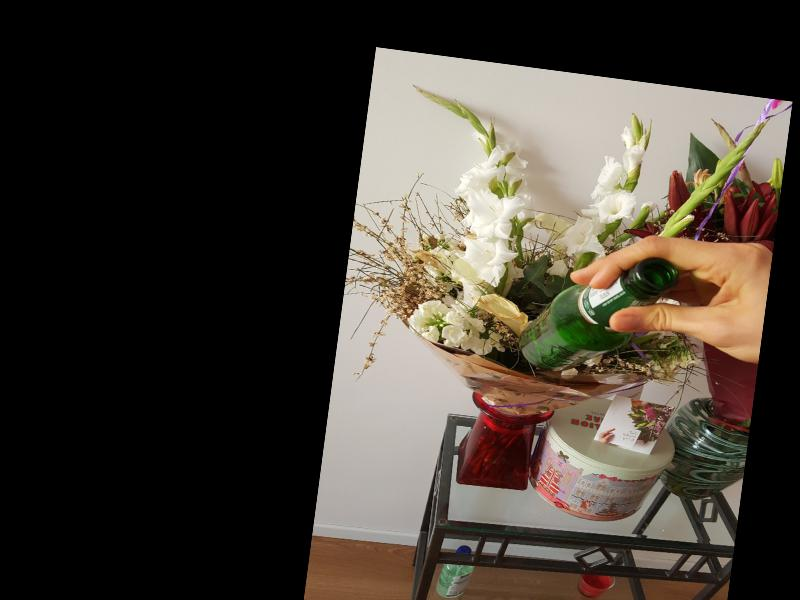Beer: (517, 241, 678, 384)
